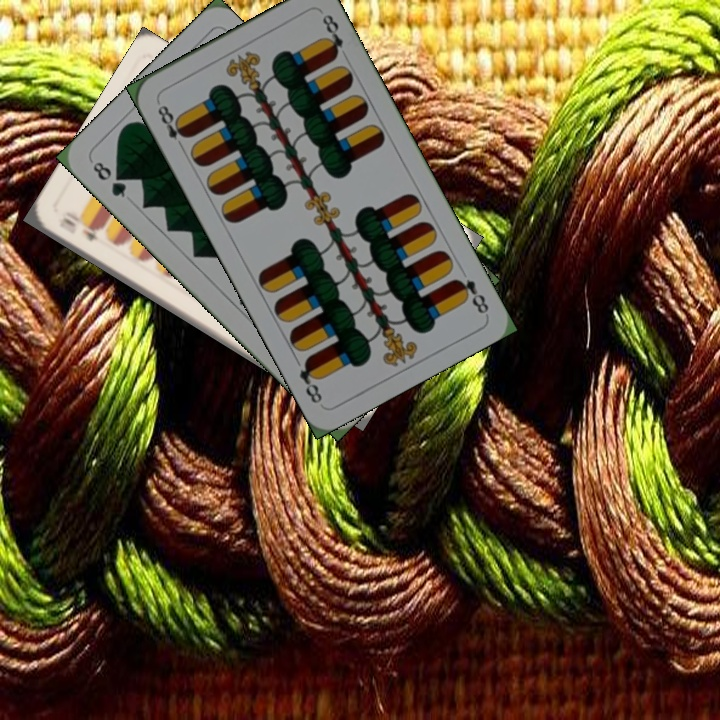E10: (54, 213, 101, 244)
E8: (153, 97, 191, 152), (450, 274, 492, 317)
G8: (88, 157, 130, 201)
